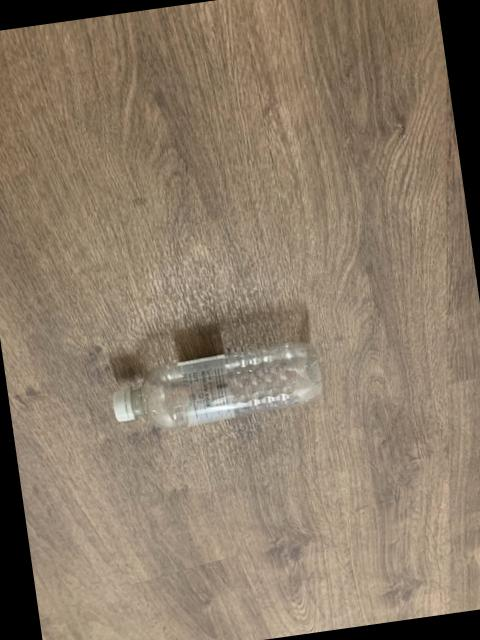plastic: (112, 344, 320, 431)
